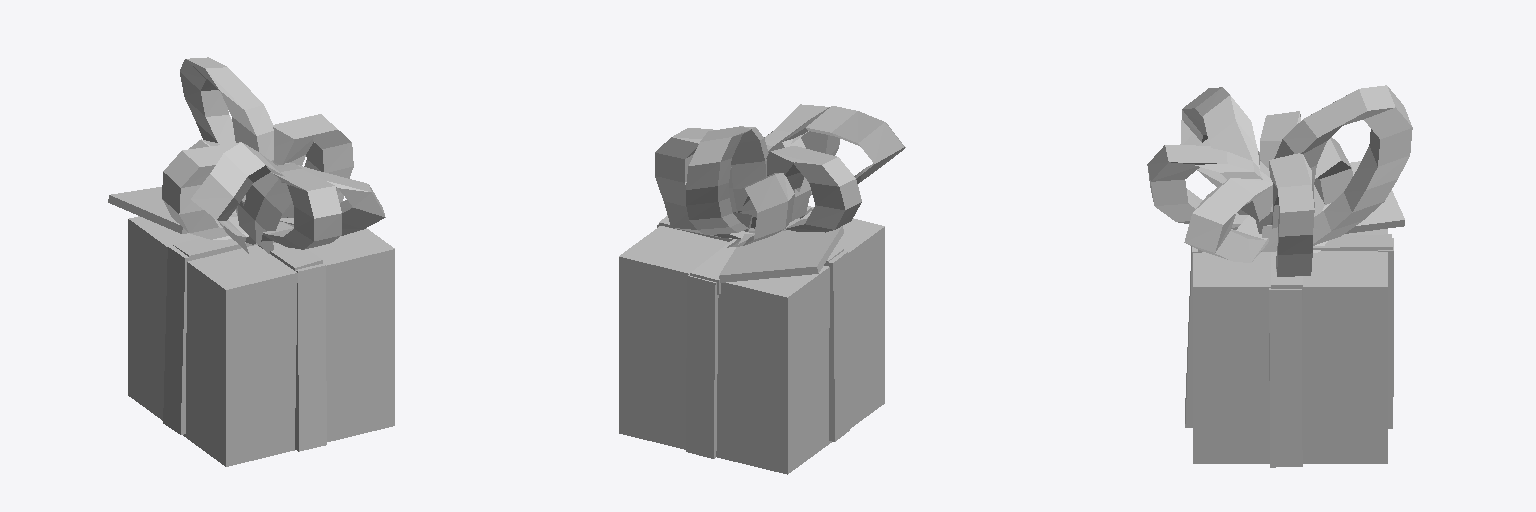
File: gift.obj
3 renders of one model, left to right at view 1: azimuth 30°, elevation 25°; view 2: azimuth 150°, elevation 25°; view 3: azimuth 270°, elevation 25°, orthographic.
Parts seen in each view (by area): view 1: group[number redacted], group[number redacted], group[number redacted], group[number redacted], group[number redacted], group[number redacted], group[number redacted], group[number redacted], group[number redacted], group[number redacted], group[number redacted], group[number redacted]; view 2: group[number redacted], group[number redacted], group[number redacted], group[number redacted], group[number redacted], group[number redacted], group[number redacted], group[number redacted], group[number redacted], group[number redacted], group[number redacted]; view 3: group[number redacted], group[number redacted], group[number redacted], group[number redacted], group[number redacted], group[number redacted], group[number redacted], group[number redacted], group[number redacted], group[number redacted], group[number redacted], group[number redacted] (+2 smaller).
Part boxes in pixels (left/top/right/bottom): group[number redacted]: left=128, top=216, right=394, bottom=466; group[number redacted]: left=191, top=142, right=291, bottom=253; group[number redacted]: left=180, top=57, right=273, bottom=161; group[number redacted]: left=295, top=264, right=326, bottom=451; group[number redacted]: left=261, top=163, right=341, bottom=249; group[number redacted]: left=162, top=142, right=293, bottom=244; group[number redacted]: left=163, top=245, right=188, bottom=434; group[number redacted]: left=273, top=114, right=353, bottom=202; group[number redacted]: left=280, top=163, right=385, bottom=235; group[number redacted]: left=108, top=187, right=232, bottom=233; group[number redacted]: left=173, top=238, right=253, bottom=260; group[number redacted]: left=258, top=243, right=322, bottom=270; group[number redacted]: left=619, top=211, right=884, bottom=474; group[number redacted]: left=686, top=126, right=768, bottom=234; group[number redacted]: left=686, top=274, right=718, bottom=458; group[number redacted]: left=733, top=146, right=861, bottom=232; group[number redacted]: left=719, top=226, right=843, bottom=282; group[number redacted]: left=768, top=106, right=905, bottom=221; group[number redacted]: left=824, top=251, right=849, bottom=441; group[number redacted]: left=655, top=128, right=756, bottom=238; group[number redacted]: left=727, top=173, right=794, bottom=247; group[number redacted]: left=764, top=104, right=839, bottom=195; group[number redacted]: left=690, top=206, right=811, bottom=294; group[number redacted]: left=1193, top=229, right=1387, bottom=463; group[number redacted]: left=1274, top=85, right=1412, bottom=245; group[number redacted]: left=1269, top=288, right=1302, bottom=467; group[number redacted]: left=1184, top=170, right=1272, bottom=262; group[number redacted]: left=1147, top=145, right=1272, bottom=233; group[number redacted]: left=1269, top=153, right=1314, bottom=276; group[number redacted]: left=1180, top=87, right=1260, bottom=214; group[number redacted]: left=1313, top=137, right=1352, bottom=252; group[number redacted]: left=1259, top=111, right=1300, bottom=251; group[number redacted]: left=1345, top=161, right=1404, bottom=233; group[number redacted]: left=1378, top=238, right=1393, bottom=428; group[number redacted]: left=1198, top=234, right=1392, bottom=251.
Size of the model in its own units: 0.1434 by 0.2201 by 0.1631.